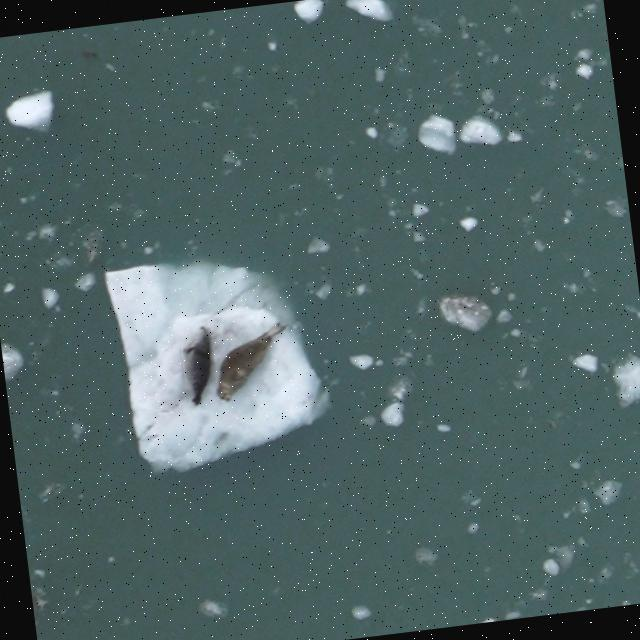seal: (204, 317, 299, 406), (177, 321, 219, 411)
